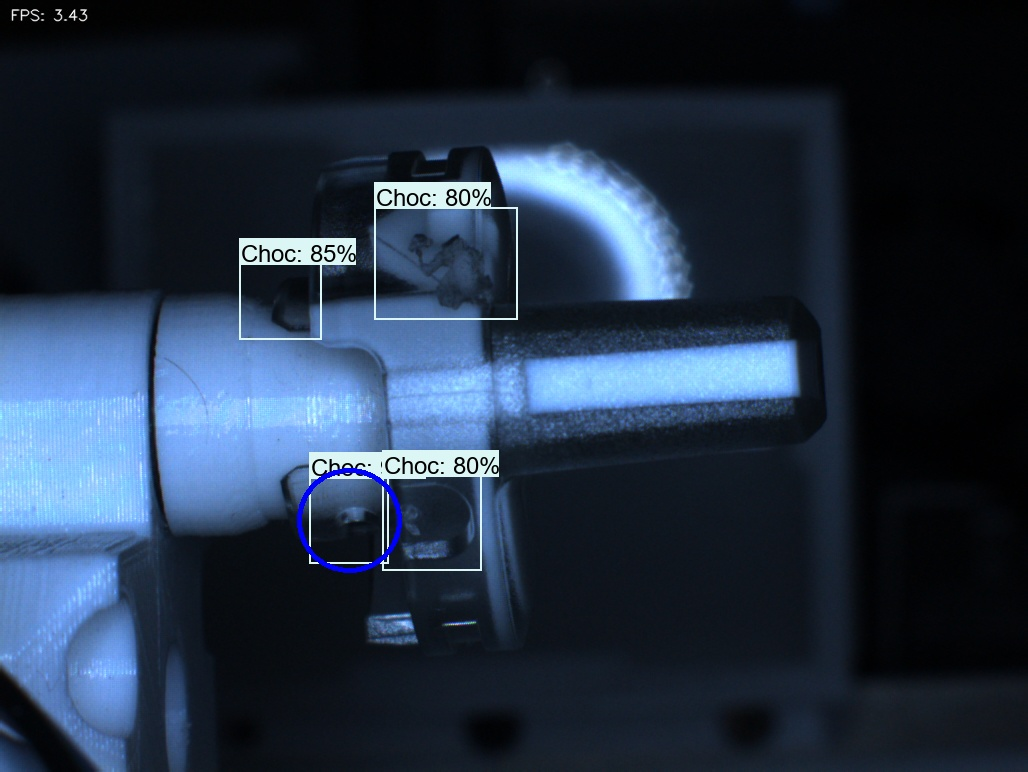DentOk: (350, 198, 423, 288)
